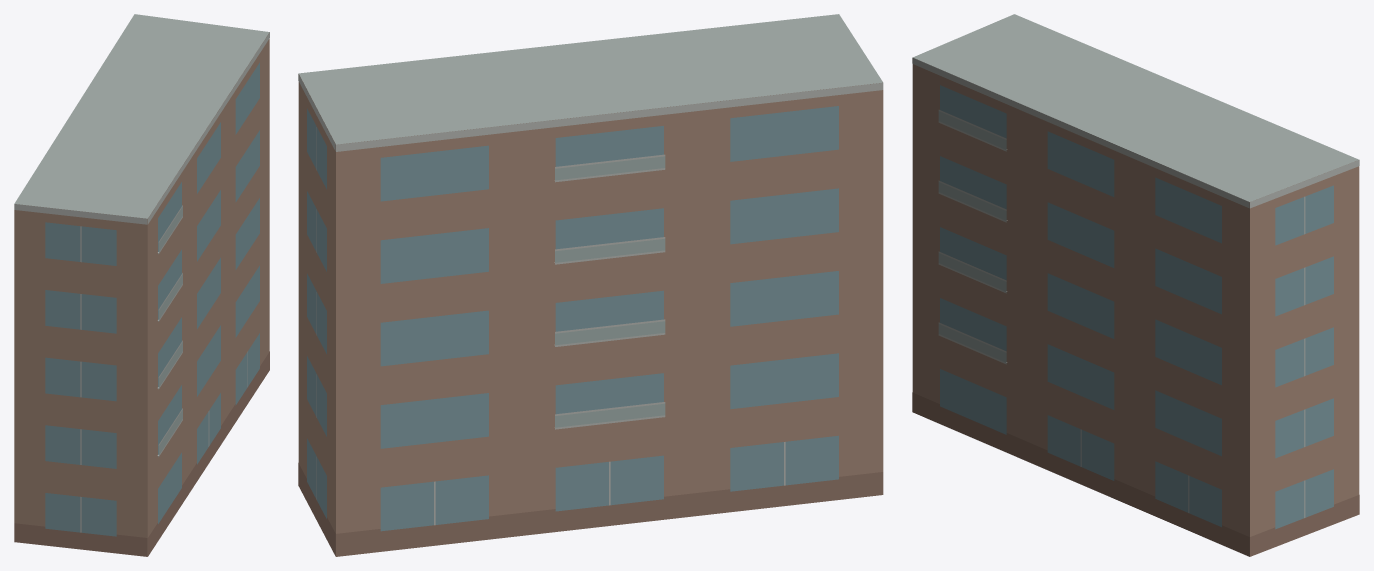
Rendered from survey-upis-32594288.glb.
3 renders of one model, left to right at view 1: azimuth 30°, elevation 25°; view 2: azimuth 150°, elevation 25°; view 3: azimuth 270°, elevation 25°, orthographic. The views are drawn at different scales.
Visible parts, largest first — view 1: survey-upis-32594288.tmp; view 2: survey-upis-32594288.tmp; view 3: survey-upis-32594288.tmp.
Part boxes in pixels (<box>): survey-upis-32594288.tmp: <box>14,14,269,556</box>; survey-upis-32594288.tmp: <box>298,14,883,556</box>; survey-upis-32594288.tmp: <box>912,14,1359,556</box>.
Size of the model in its own units: 15.48 by 13.6 by 15.53.
